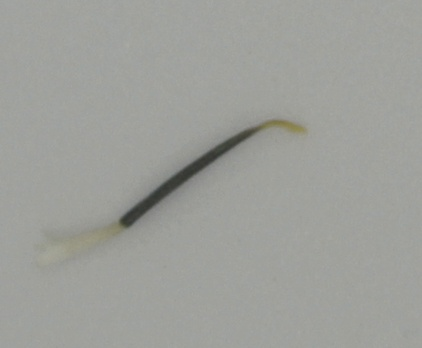เมล็ดดีเรียวยาว: (41, 119, 309, 271)
